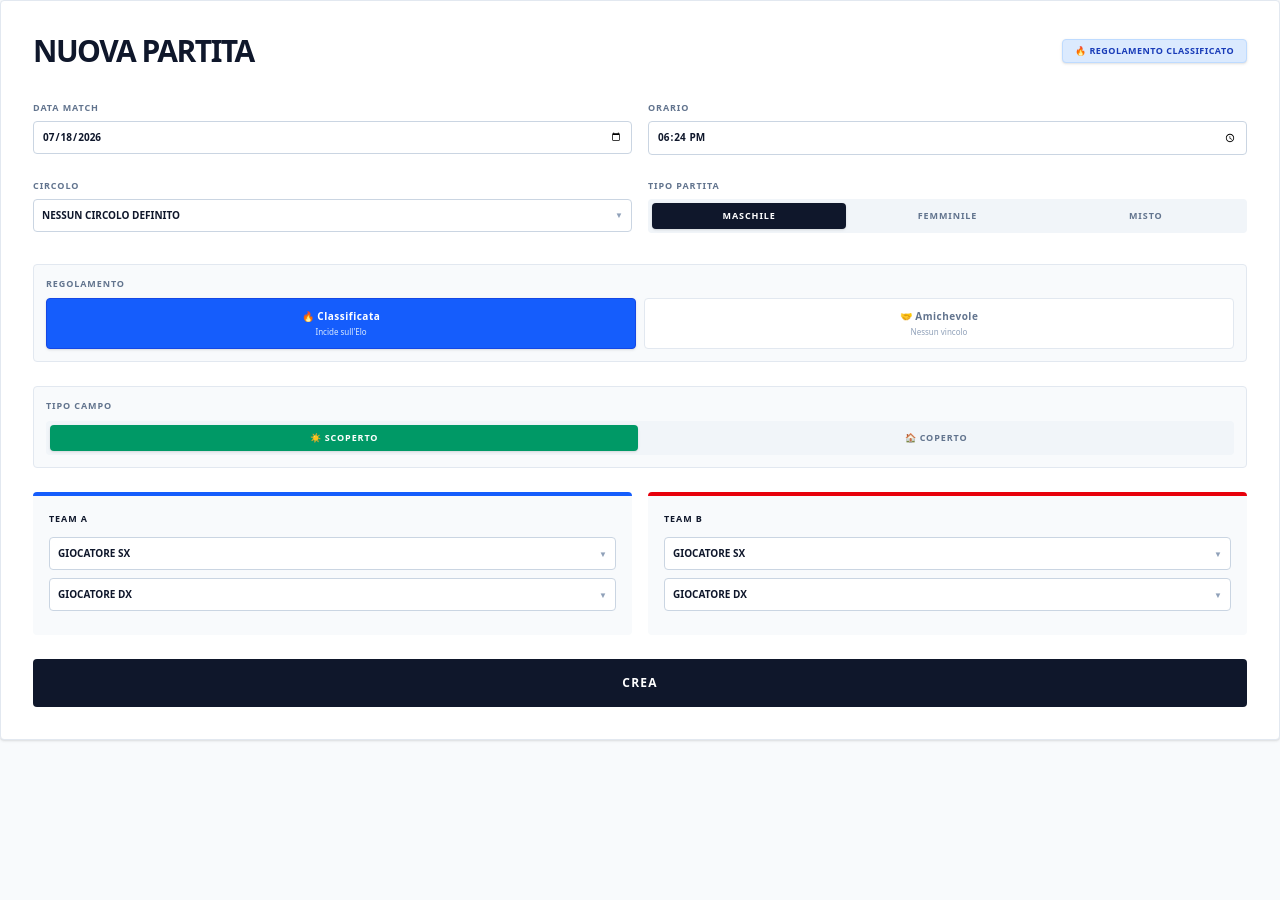
Test: MatchForm Component (Unificato) › dovrebbe mostrare l'errore del divario tecnico se si supera lo 0.25 in modalità Classificata
The width and height of the screenshot is (1280, 900).
Click the text "GIOCATORE SX" below "TEAM A" at (94, 554), box [58,546,130,561]
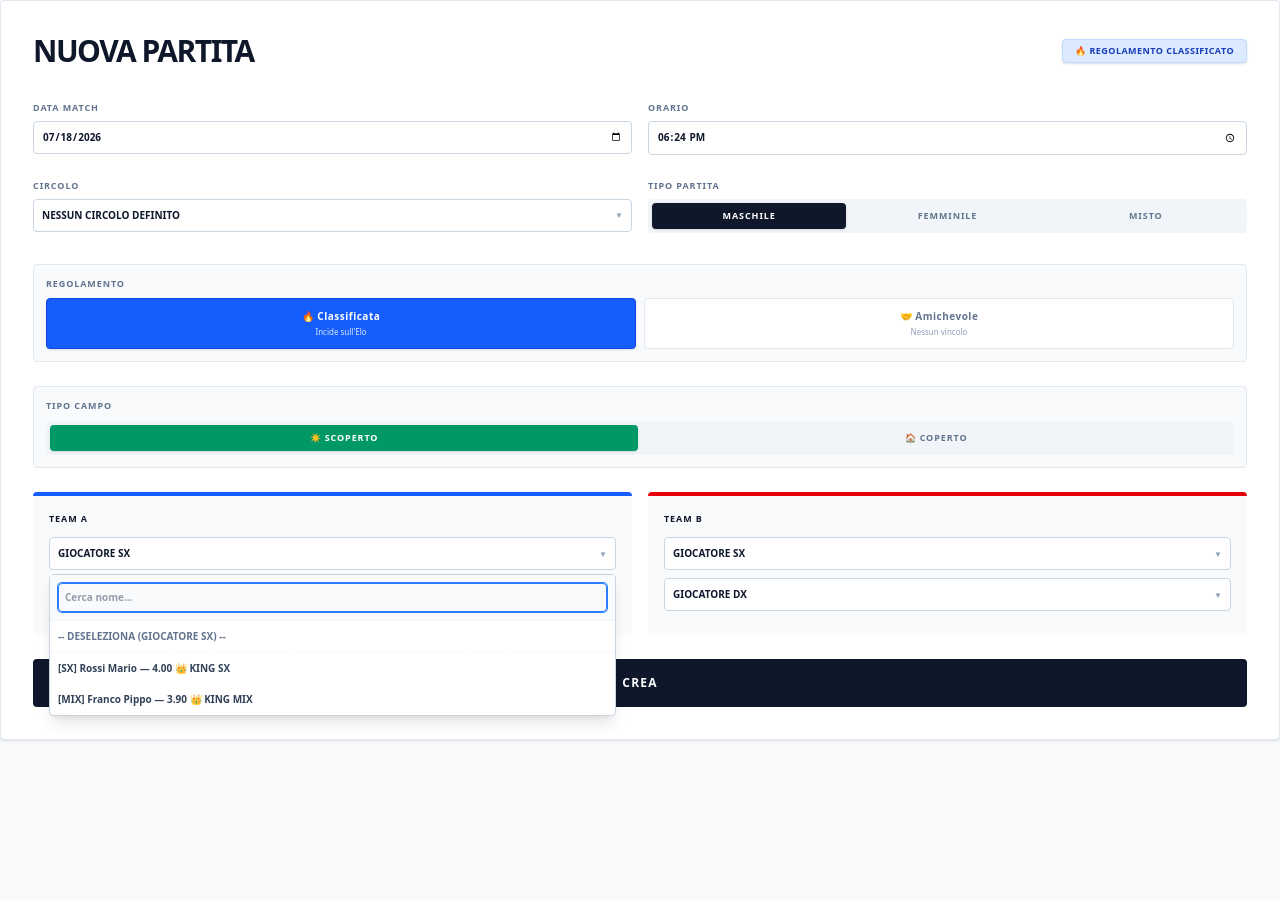
Click the text "[SX] Rossi Mario — 4.00 👑 KING SX" at (144, 668), box [58,661,230,675]
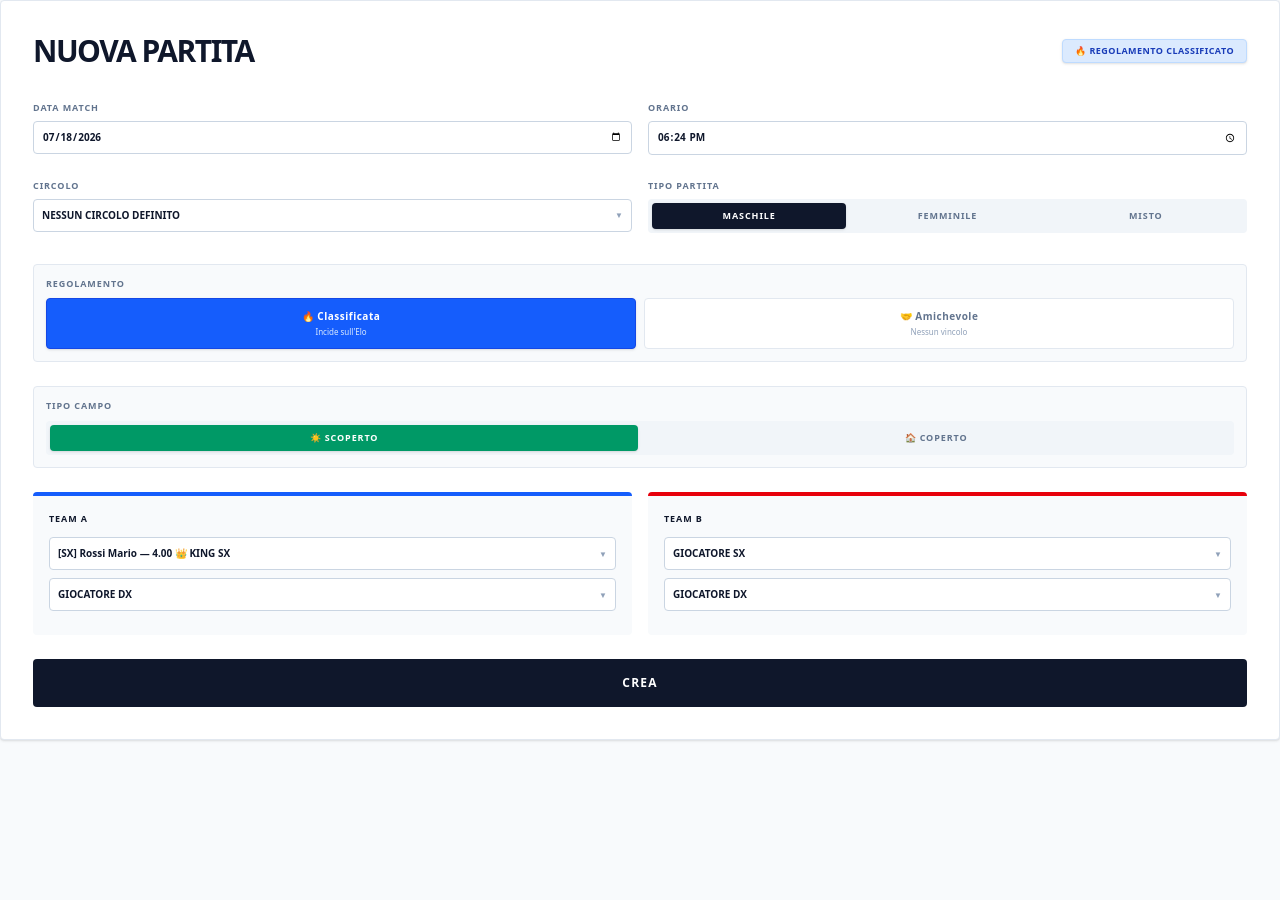
Click the text "GIOCATORE DX" below "[SX] Rossi Mario — 4.00 👑 KING SX" at (95, 594), box [58,587,132,602]
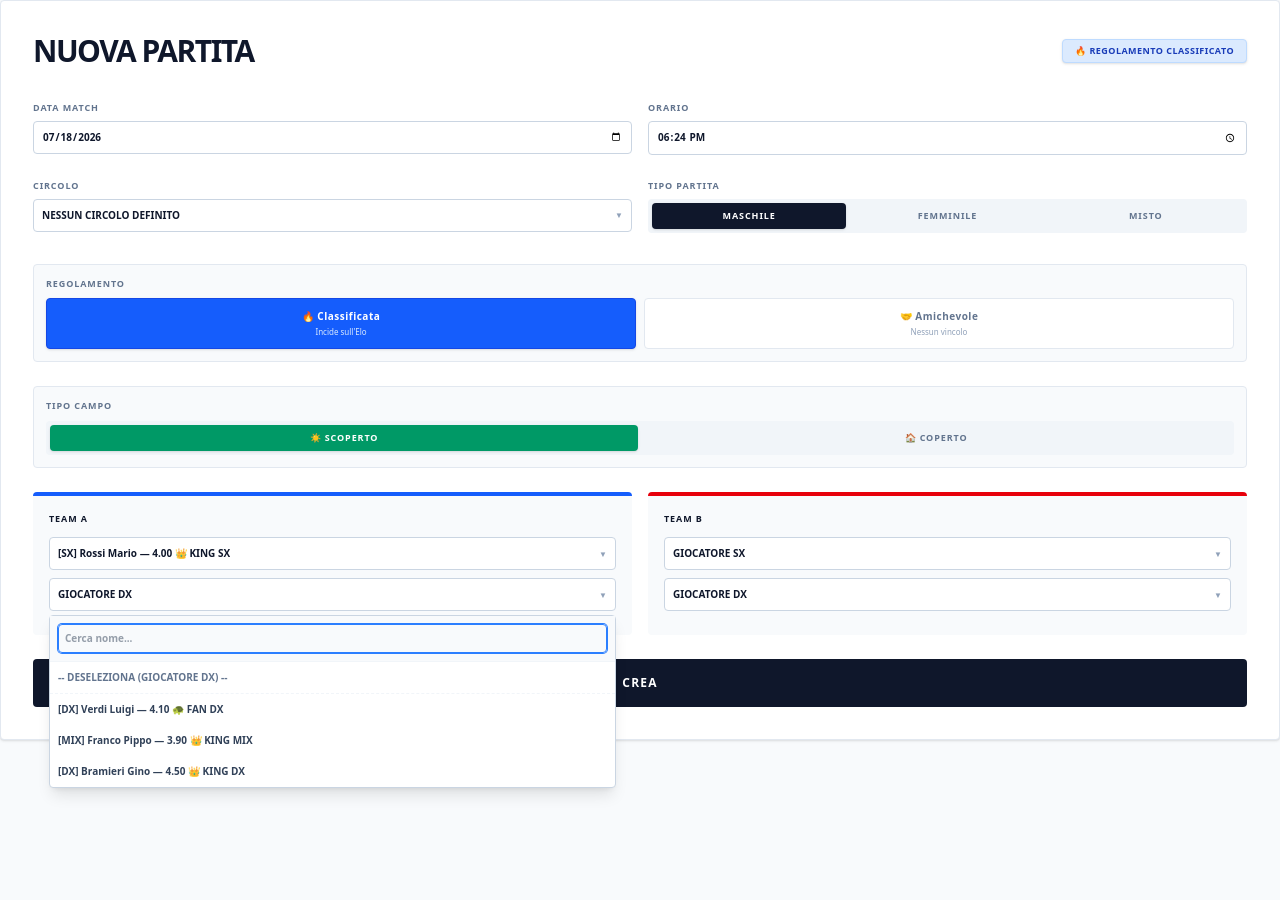
Click the text "[DX] Bramieri Gino — 4.50 👑 KING DX" at (152, 771), box [58,764,245,778]
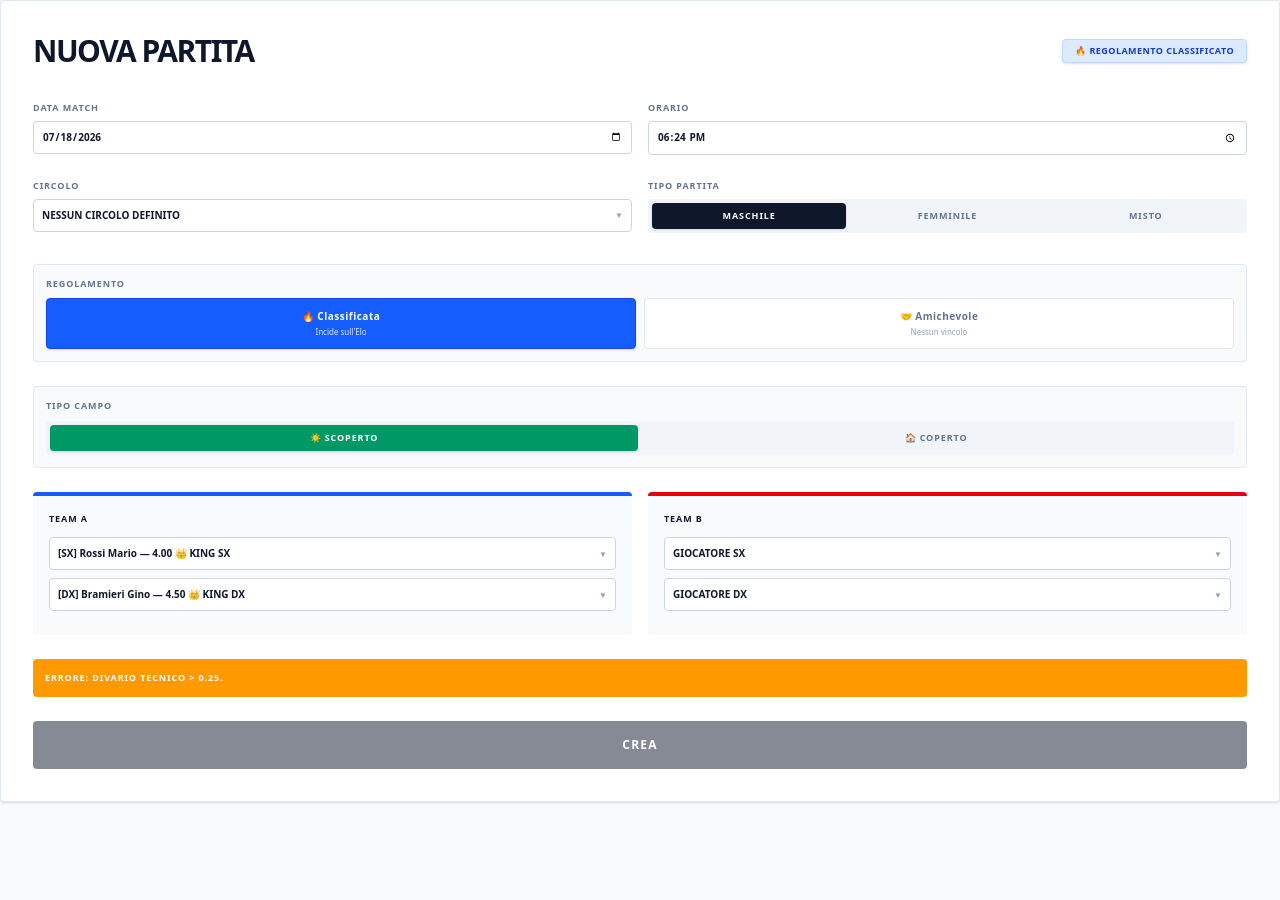
Check: the text "ERRORE: DIVARIO TECNICO > 0.25." is shown, box [33,659,1247,696]
Check: the button "Crea" is disabled, box [33,720,1247,768]
